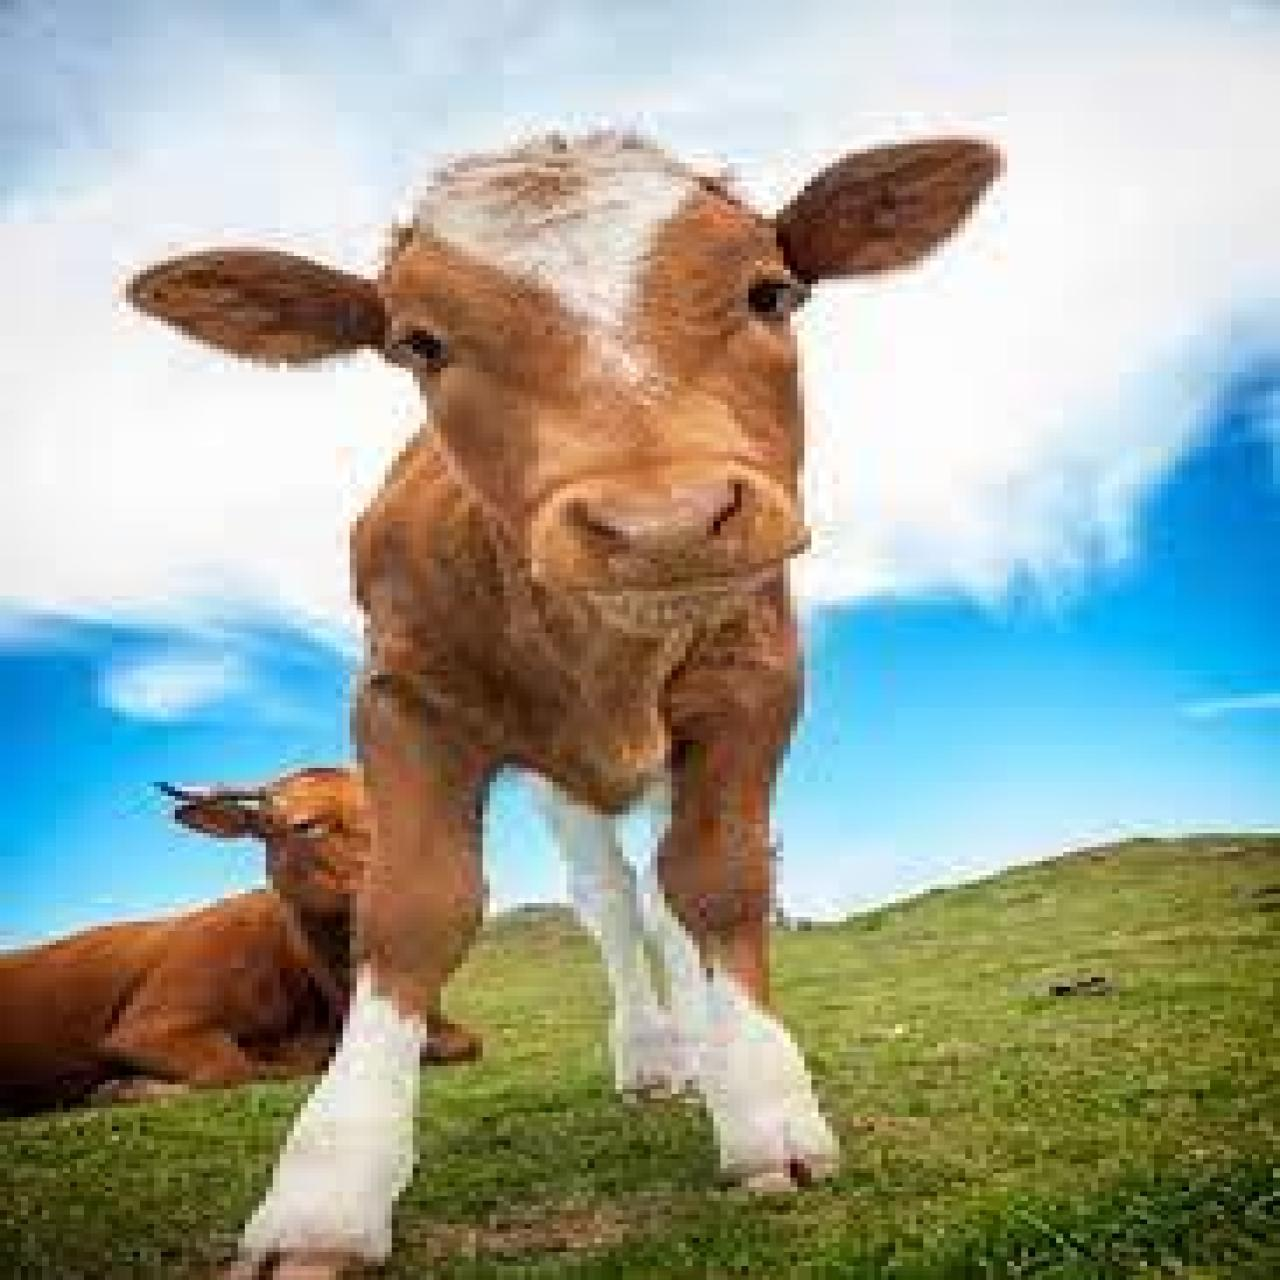cow: (132, 139, 1000, 1280), (11, 765, 486, 1115)
